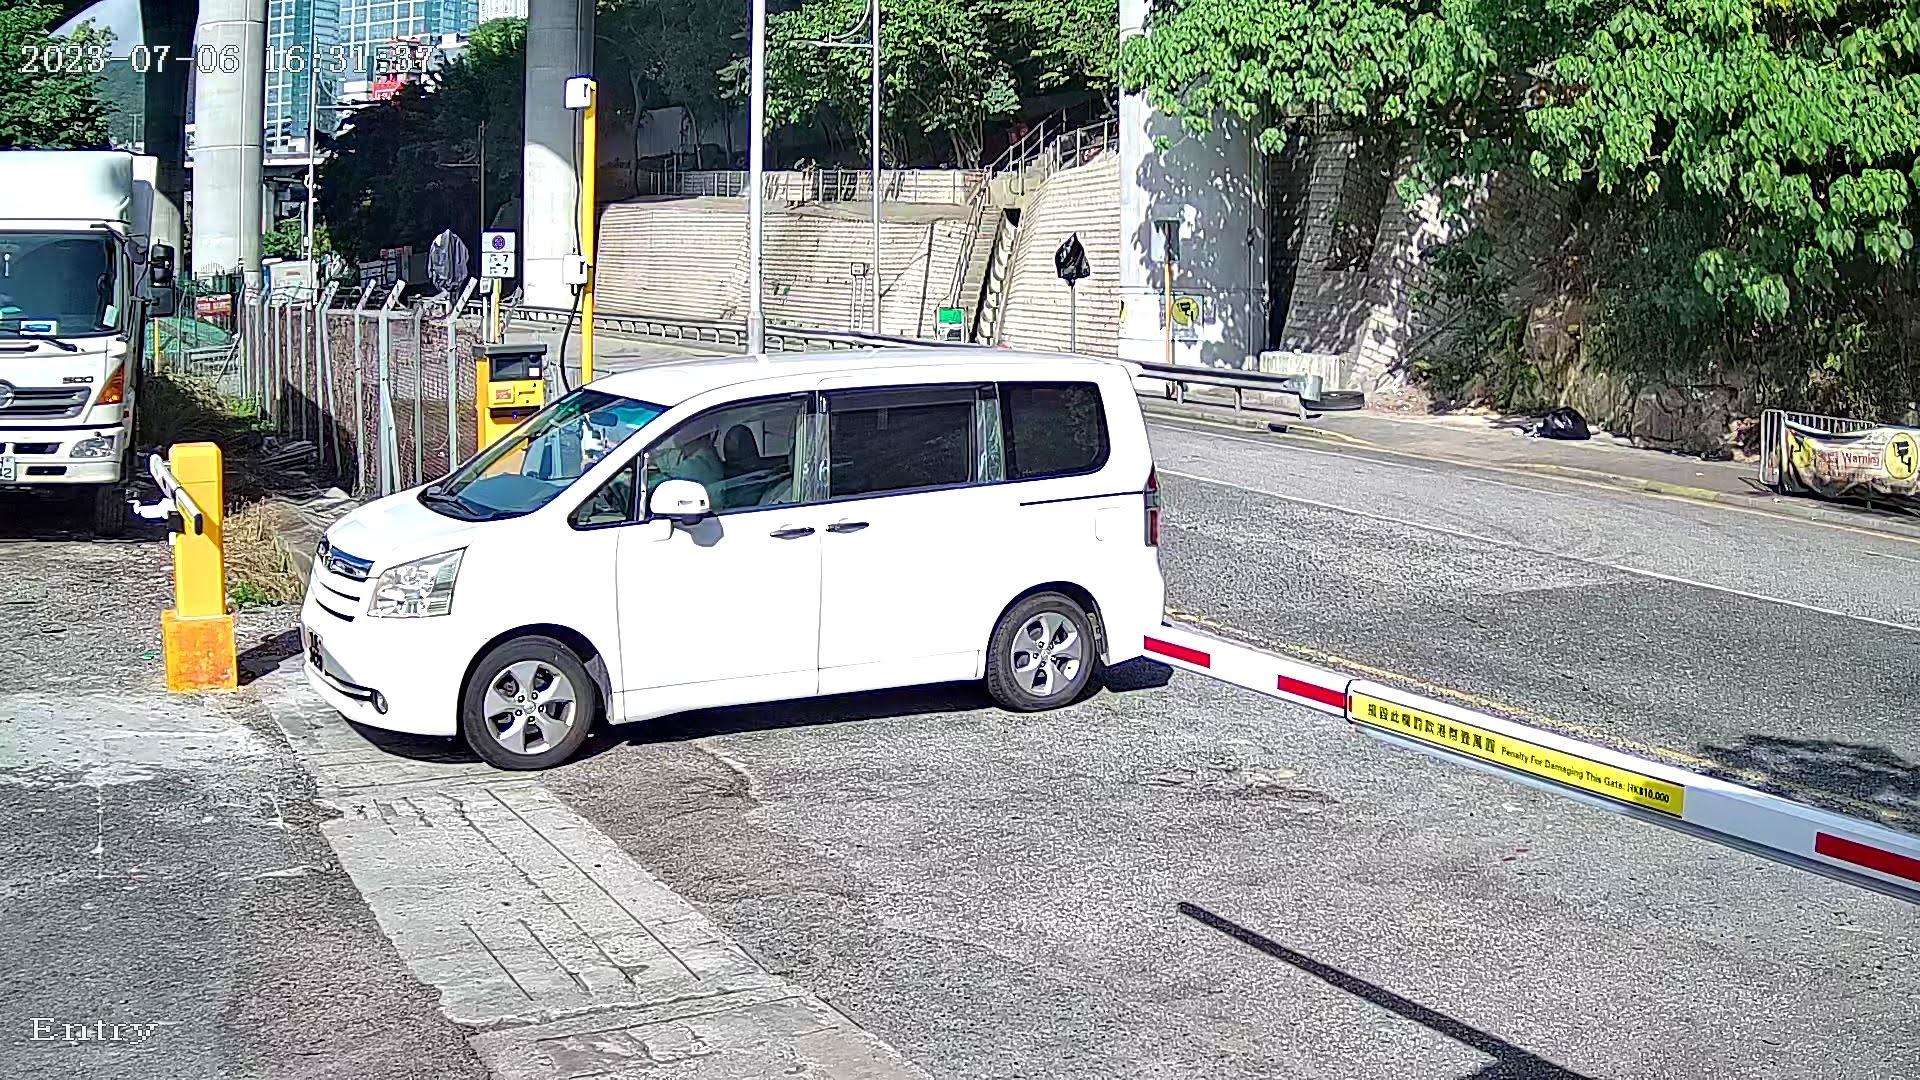privatecar: (262, 326, 1188, 823)
